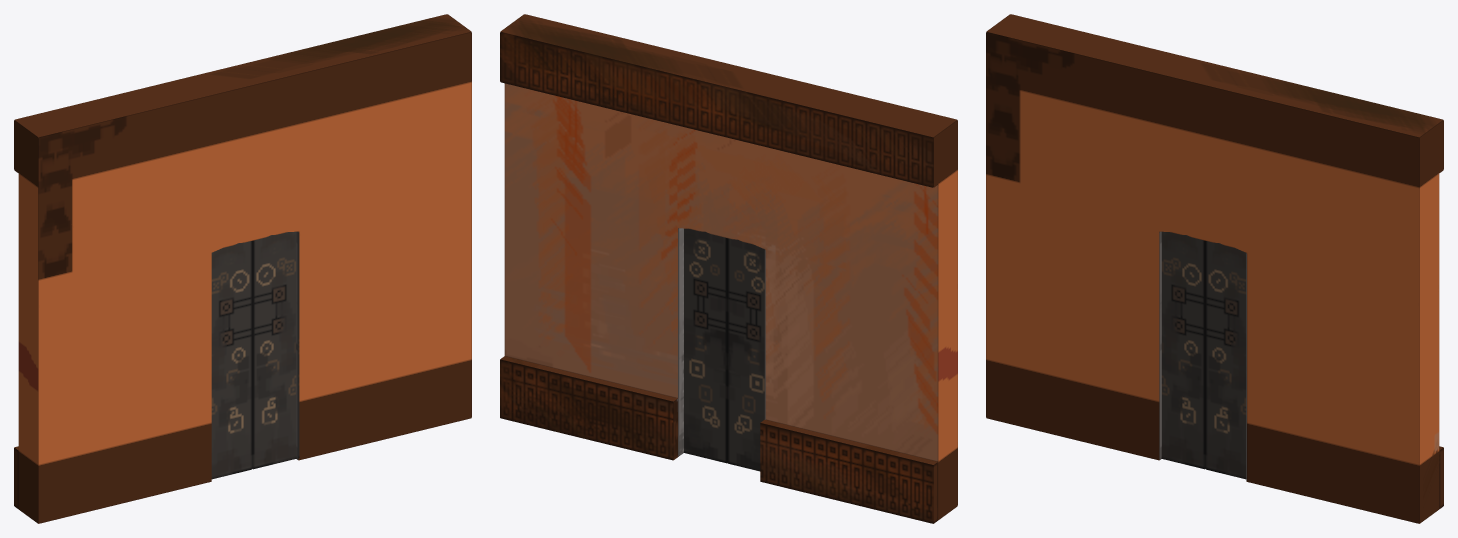
File: DOOR_WALL_AUTO.fbx
3 renders of one model, left to right at view 1: azimuth 30°, elevation 25°; view 2: azimuth 150°, elevation 25°; view 3: azimuth 330°, elevation 25°, orthographic.
Visible parts, largest first — view 1: cuboid, cuboid_1, cuboid_2; view 2: cuboid, cuboid_1, cuboid_2; view 3: cuboid, cuboid_2, cuboid_1.
Boxes of the visible parts, x1,y1,x2,y2 form: cuboid: (14, 14, 471, 523); cuboid_1: (252, 231, 299, 469); cuboid_2: (211, 240, 252, 479); cuboid: (500, 14, 957, 523); cuboid_1: (673, 228, 727, 463); cuboid_2: (727, 238, 764, 471); cuboid: (986, 14, 1443, 523); cuboid_2: (1159, 231, 1205, 469); cuboid_1: (1205, 240, 1246, 479).
Bounding box in the file's own units: 338 × 288 × 32.81.
Materials: 2 (2 with a texture image).
